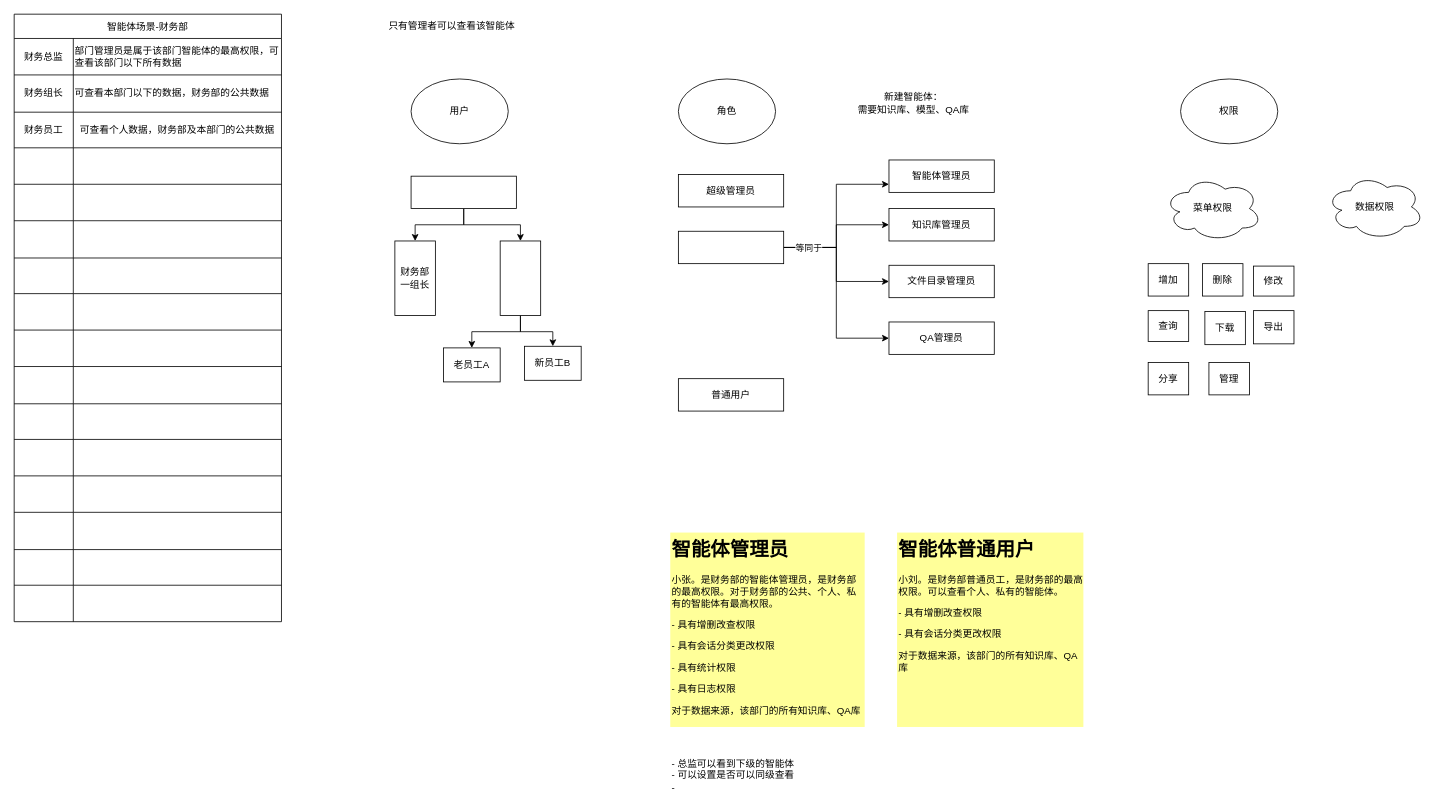
Image size: 1438x807. Some labels were removed from this diagram. Each missing label, with the centre of its shape:
某部门管理员: (731,247)
财务部 二组长: (520,277)
财务部总监: (463,192)
